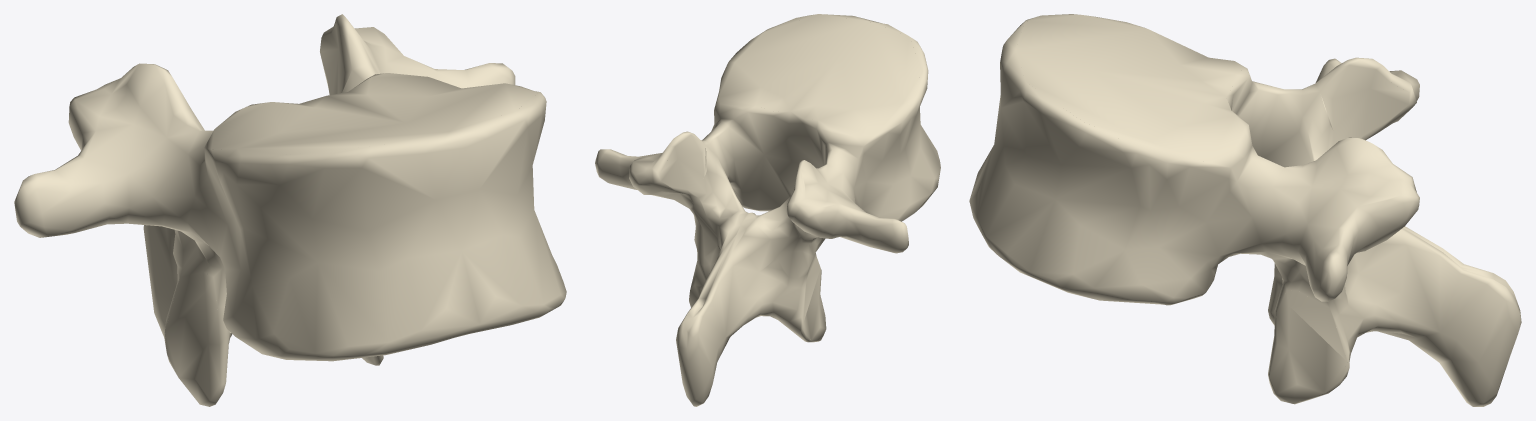
Rendered from esqueleto-vertebra-l1.glb.
The picture shows the model from 3 angles, left to right: view 1: azimuth 30°, elevation 25°; view 2: azimuth 150°, elevation 25°; view 3: azimuth 270°, elevation 25°; orthographic projection. The views are drawn at different scales.
Visible parts, largest first — view 1: Vertebra L1; view 2: Vertebra L1; view 3: Vertebra L1.
Part boxes in pixels (left/top/right/bottom): Vertebra L1: left=14, top=14, right=566, bottom=406; Vertebra L1: left=595, top=14, right=940, bottom=406; Vertebra L1: left=969, top=14, right=1521, bottom=406.
Size of the model in its own units: 0.0744 by 0.0592 by 0.0831.
